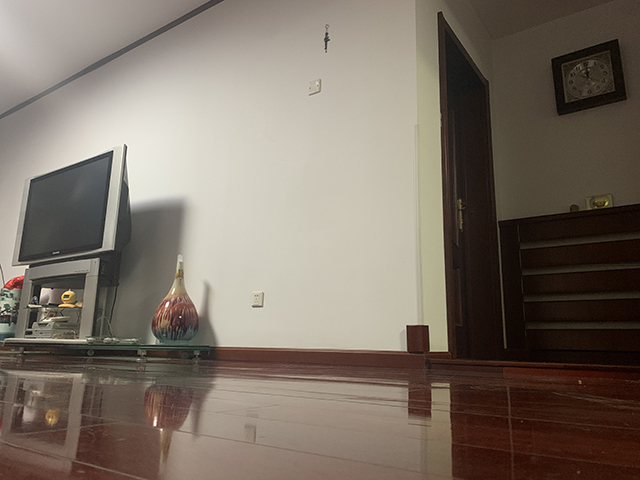cabinet: (1, 257, 210, 361)
